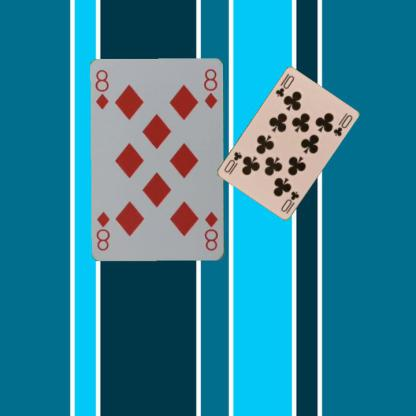10c: (273, 73, 296, 99), (278, 189, 300, 213)
8d: (202, 209, 220, 253), (93, 67, 110, 110)
